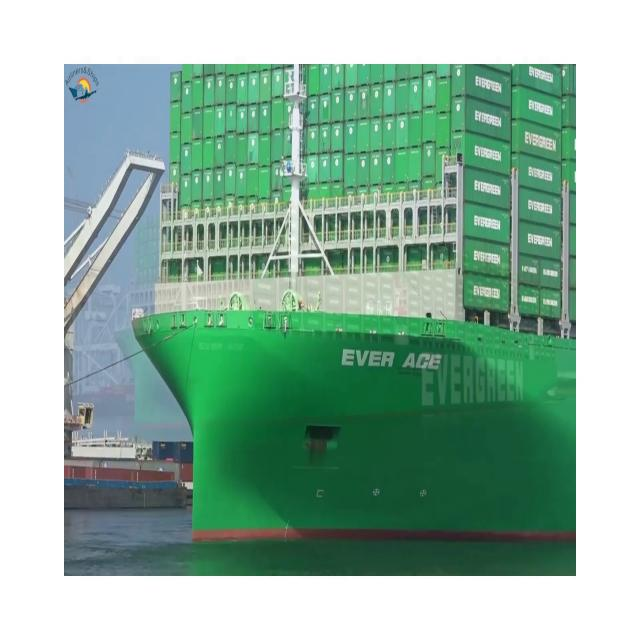OCR: (334, 334, 440, 384)
